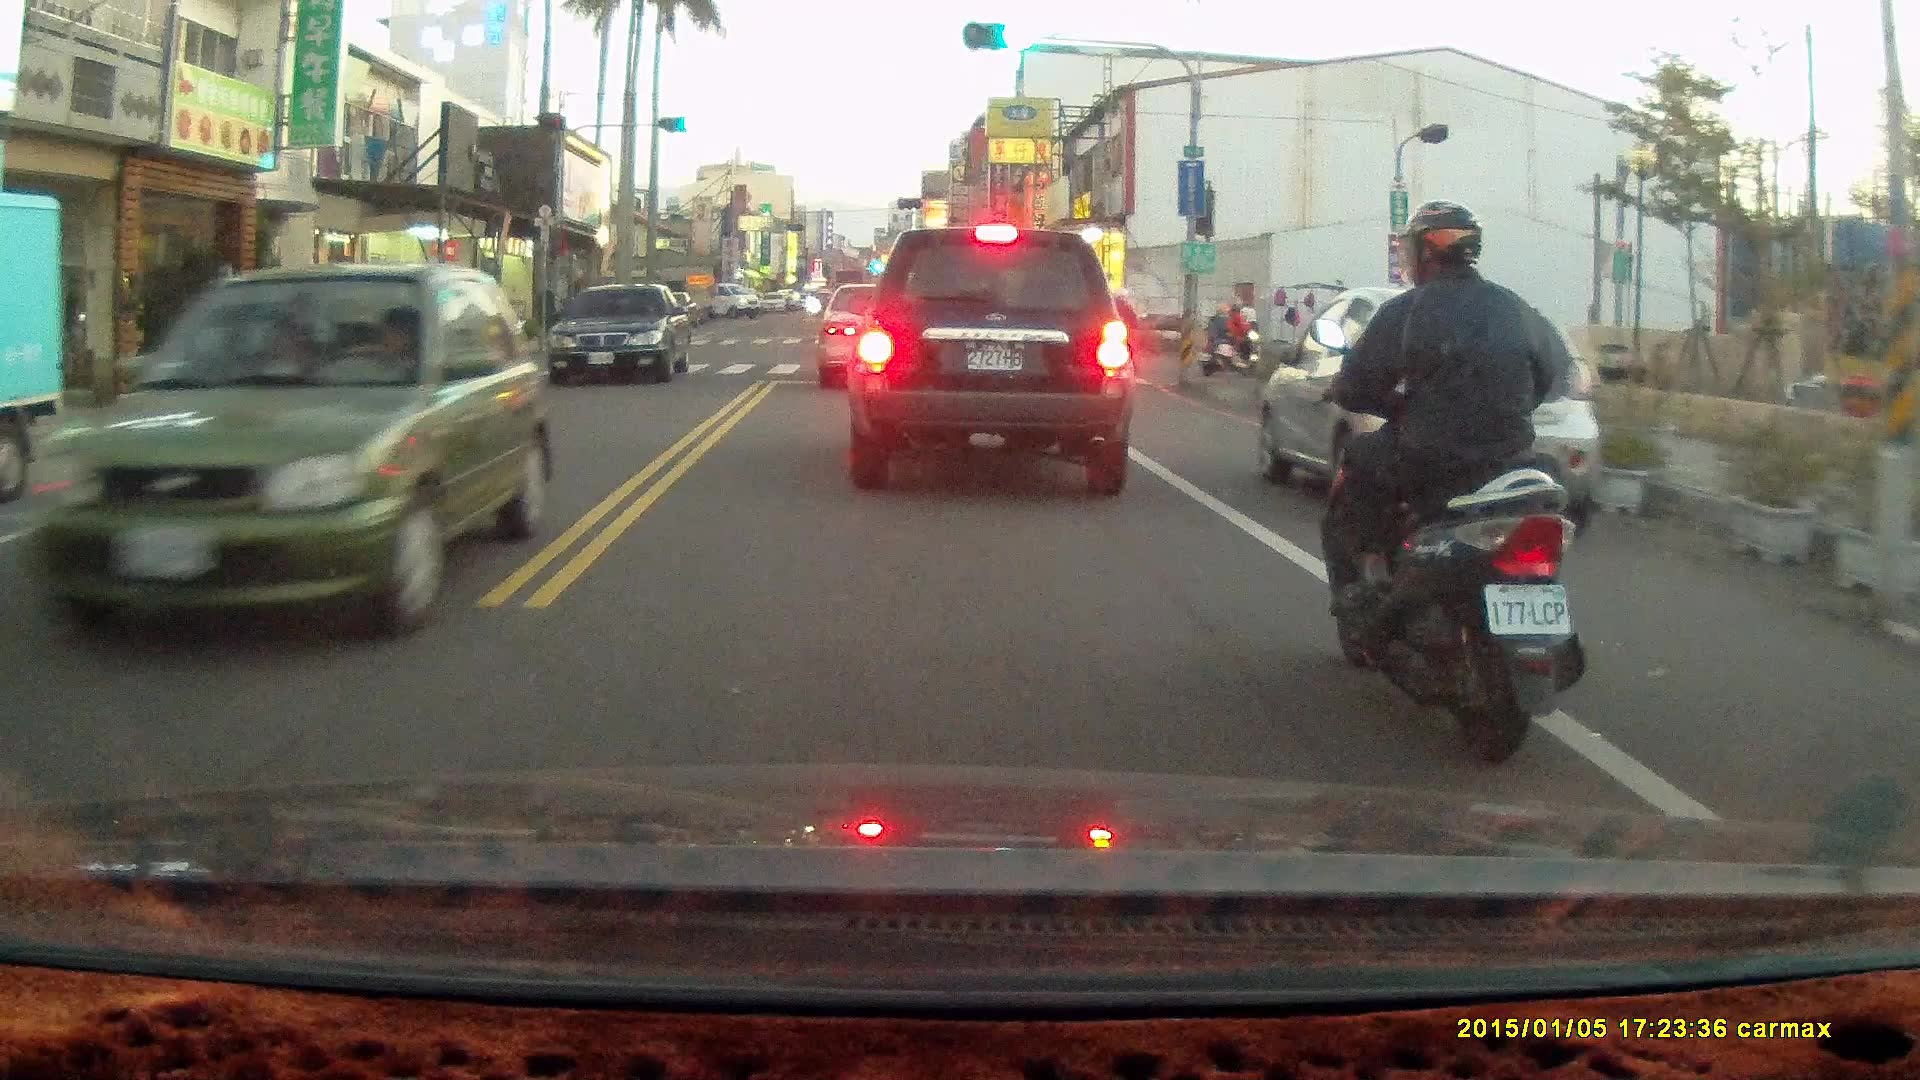pedestrian: (1233, 296, 1259, 363)
rider: (1309, 200, 1587, 770), (1198, 295, 1258, 375)
vehicle: (34, 263, 556, 655), (1251, 289, 1608, 543), (851, 223, 1134, 500), (1, 191, 70, 502), (551, 283, 696, 389), (817, 283, 940, 397)
